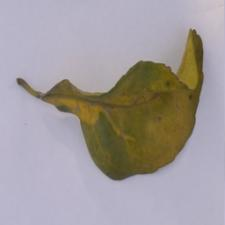Greening: (52, 47, 209, 181)
